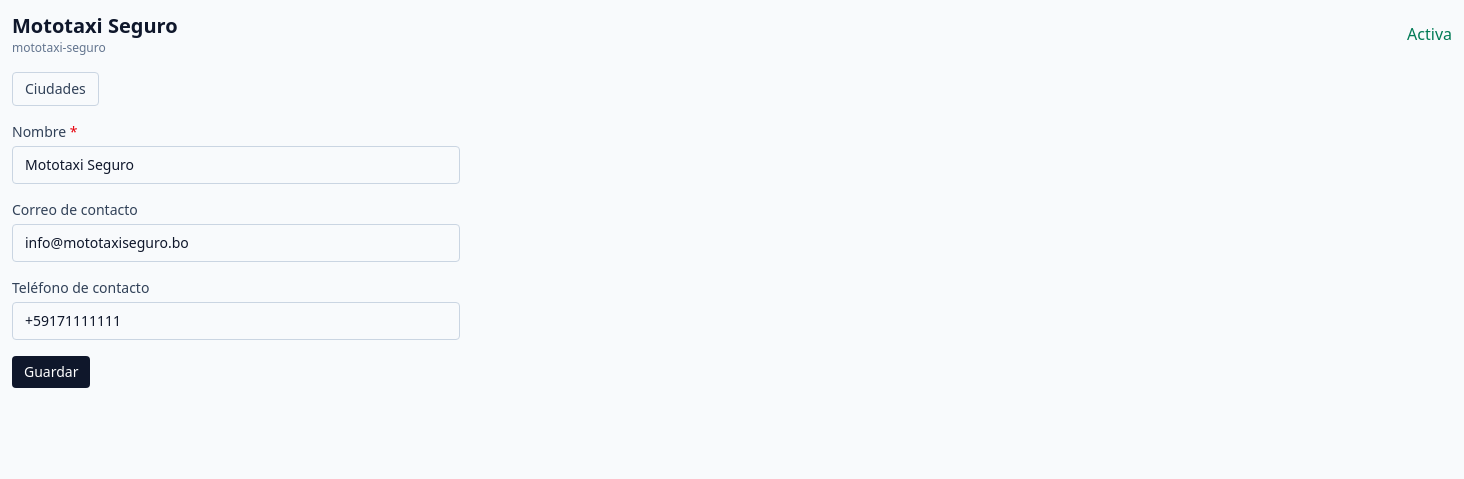
Test case: mi empresa › vaciar el correo avisa en vez de fingir que lo borra
Clear the field labelled "Correo de contacto". click: [236, 243]
box: [12,224,460,262]
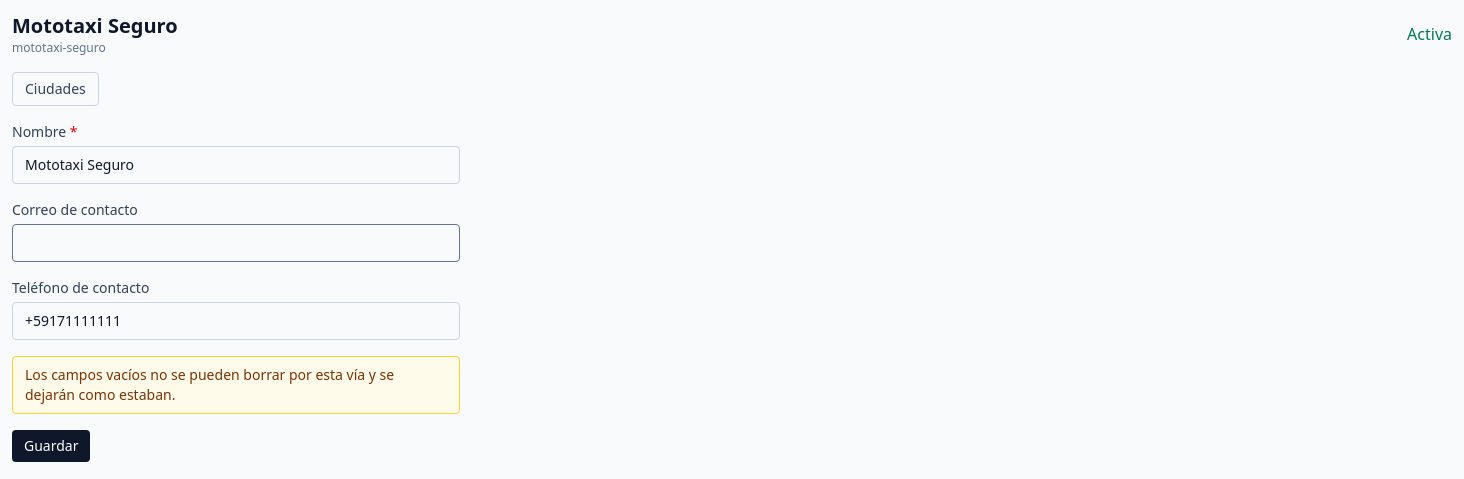
Result: the message shows "no se pueden borrar" at [25,365,394,404]
